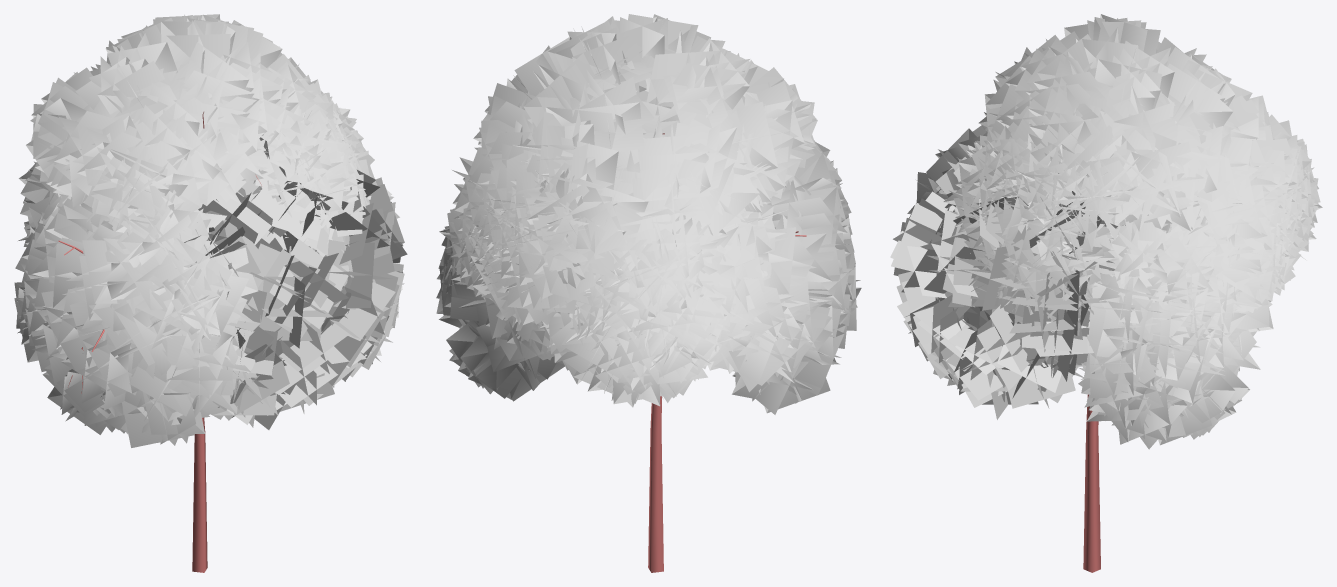
File: Tree.fbx
The picture shows the model from 3 angles, left to right: view 1: azimuth 30°, elevation 25°; view 2: azimuth 150°, elevation 25°; view 3: azimuth 270°, elevation 25°; orthographic projection. The views are drawn at different scales.
Parts seen in each view (by area): view 1: Leaves, Trunk; view 2: Leaves, Trunk; view 3: Leaves, Trunk.
Boxes of the visible parts, left/top/right/bottom form: Leaves: left=14, top=14, right=407, bottom=447; Trunk: left=58, top=112, right=261, bottom=572; Leaves: left=436, top=14, right=861, bottom=414; Trunk: left=648, top=133, right=806, bottom=572; Leaves: left=890, top=14, right=1322, bottom=449; Trunk: left=1083, top=394, right=1100, bottom=572.
Bounding box in the file's own units: 462 × 669 × 492.
